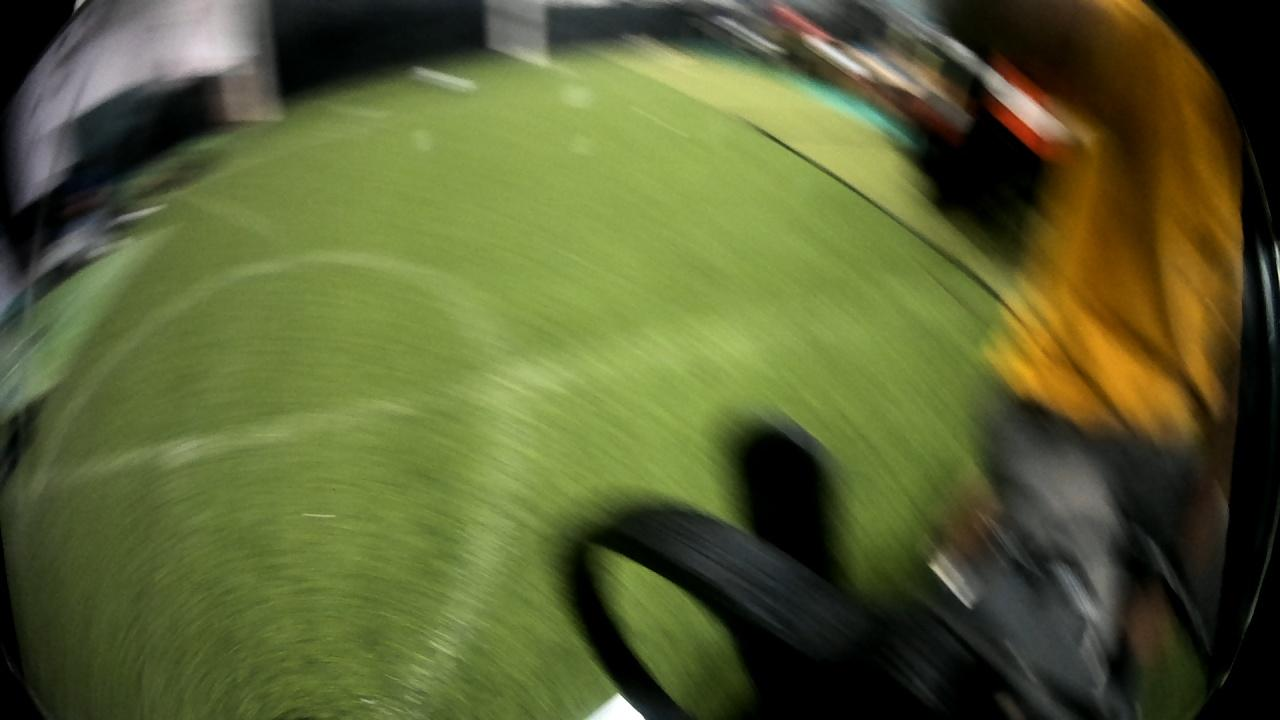ball: (406, 62, 478, 102)
